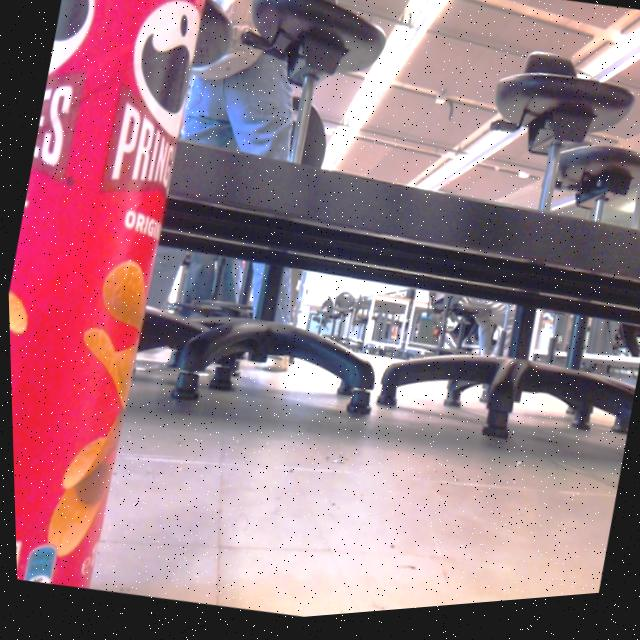redpringles: (0, 0, 237, 598)
